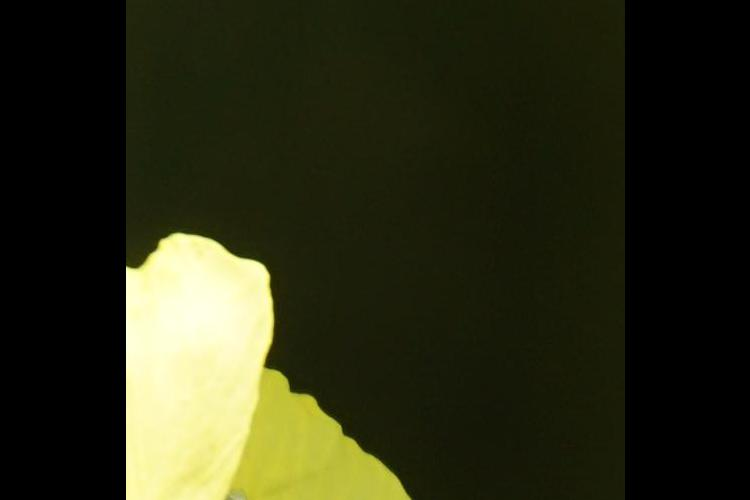yellow: (135, 213, 508, 500)
